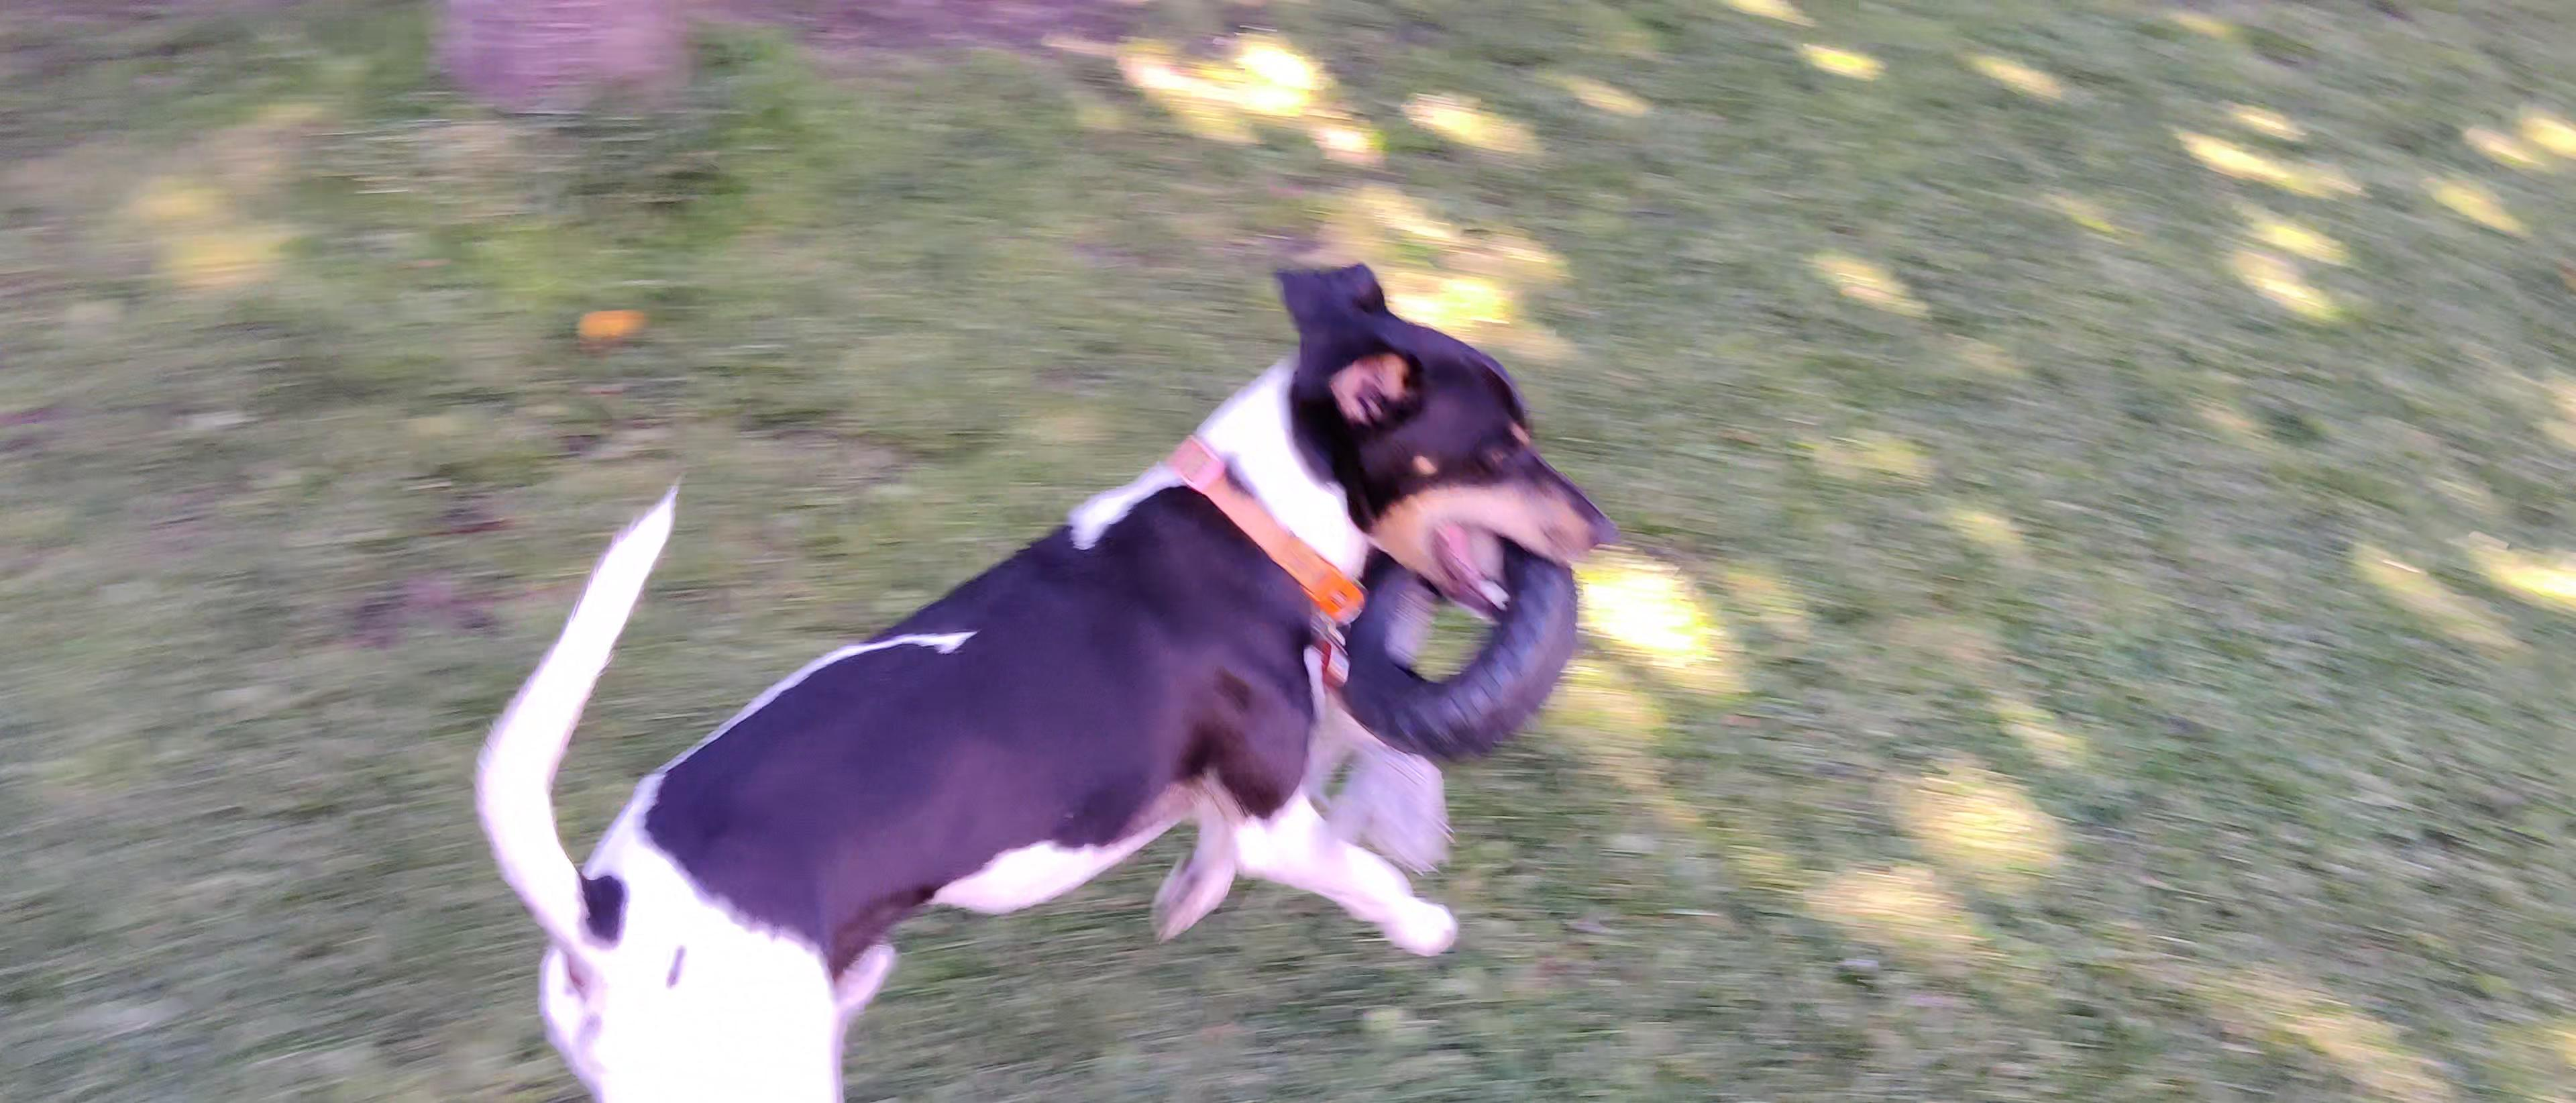Dog: (447, 235, 1641, 1103)
